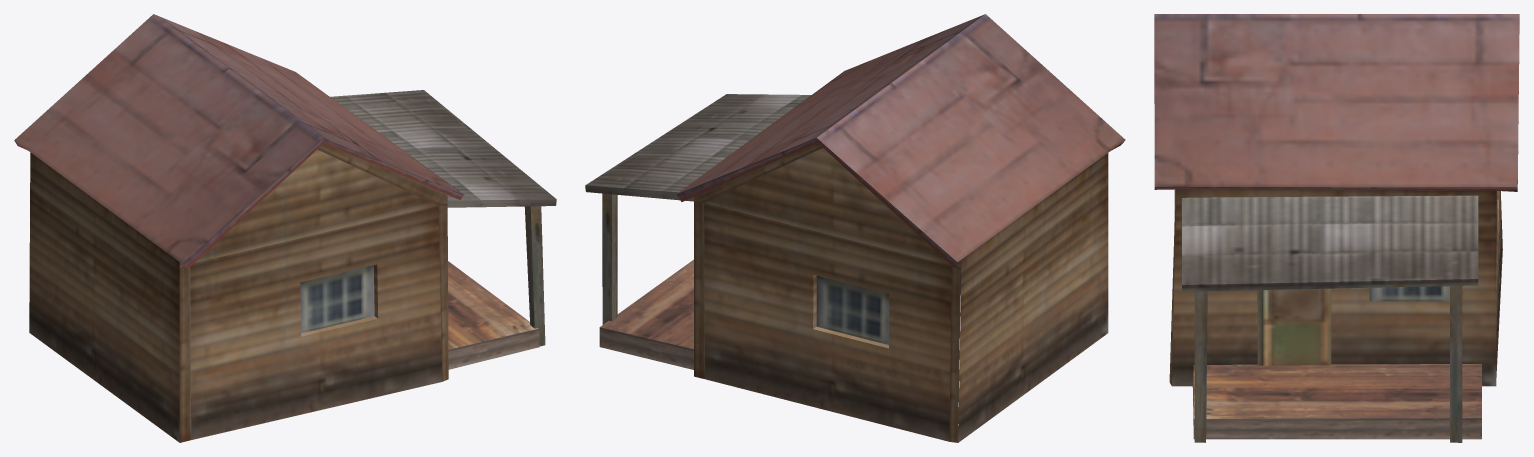
File: ranch_c.glb
3 renders of one model, left to right at view 1: azimuth 30°, elevation 25°; view 2: azimuth 150°, elevation 25°; view 3: azimuth 270°, elevation 25°, orthographic. The views are drawn at different scales.
Parts seen in each view (by area): view 1: house03_elements_0, house03_roof_elements_0, house03_add_elements_0; view 2: house03_elements_0, house03_roof_elements_0, house03_add_elements_0; view 3: house03_elements_0, house03_roof_elements_0, house03_add_elements_0.
Part boxes in pixels (<box>): house03_elements_0: <box>14,14,463,442</box>; house03_roof_elements_0: <box>330,90,556,346</box>; house03_add_elements_0: <box>448,261,539,369</box>; house03_elements_0: <box>676,14,1125,442</box>; house03_roof_elements_0: <box>585,94,811,324</box>; house03_add_elements_0: <box>599,259,693,369</box>; house03_elements_0: <box>1154,14,1519,386</box>; house03_roof_elements_0: <box>1181,195,1478,442</box>; house03_add_elements_0: <box>1192,364,1481,439</box>.
Size of the model in its own units: 1.04 by 0.707 by 0.7753.
1 material, 1 textured.
